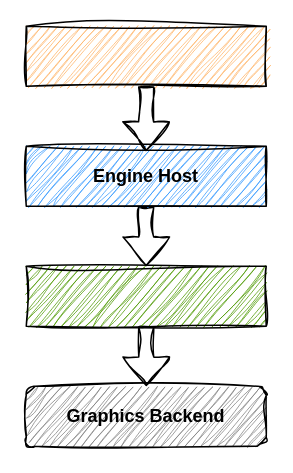
Some shapes in this 293 by 473 pixel diagram are drawn without their labels. The box of each missing label's shape, as (x1, y1, x2, y2) in pixels:
Edior Application: (25, 25, 266, 86)
Runtime Systems: (25, 265, 266, 326)
